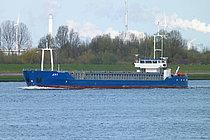Ship: (21, 40, 193, 92)
